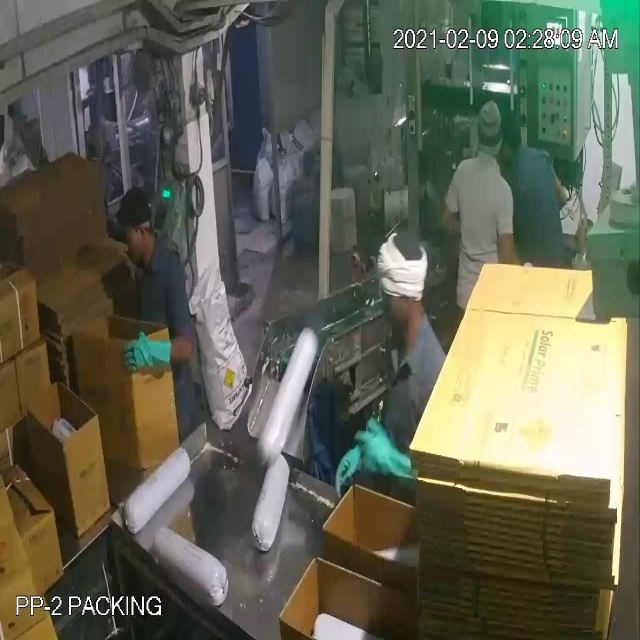Guantes: (351, 414, 424, 490), (117, 327, 190, 389), (328, 433, 377, 510)
